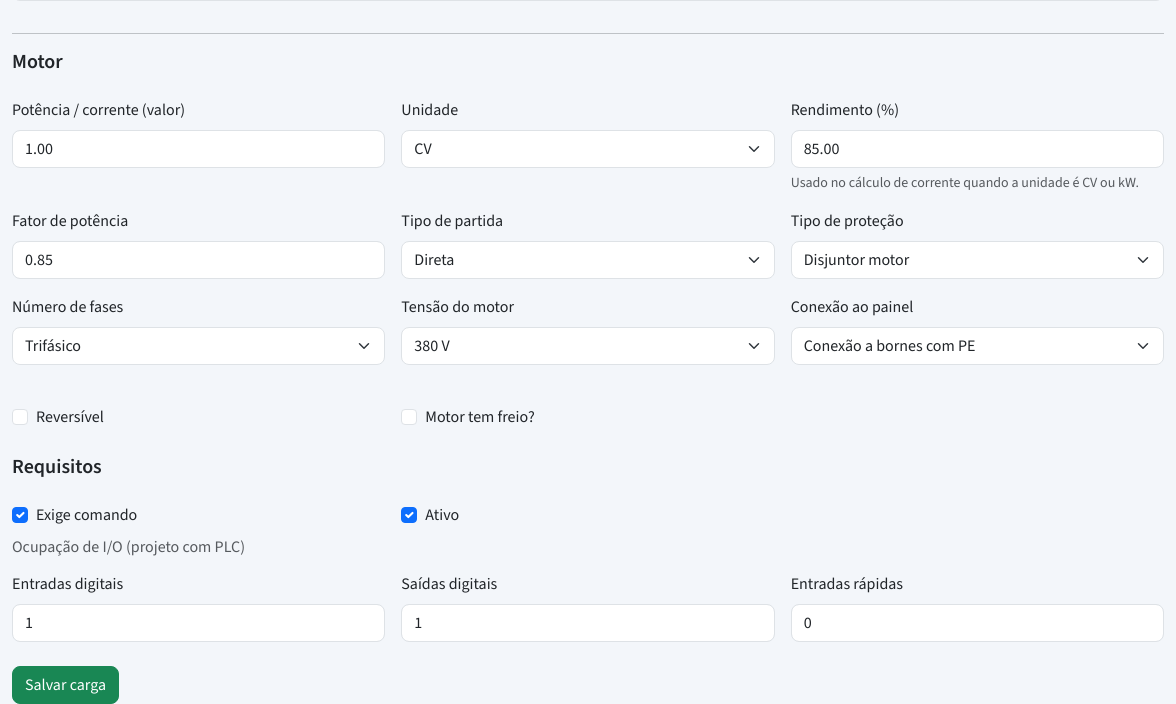
Test: CargaForm › zera e desabilita quantidades de IO quando exige comando fica false
(page scrolled)
What coordinates should you click on to do the following:
click the checkbox labelled "Exige comando"
I would click on:
 (20, 515)
Its box is [12,507,28,523].
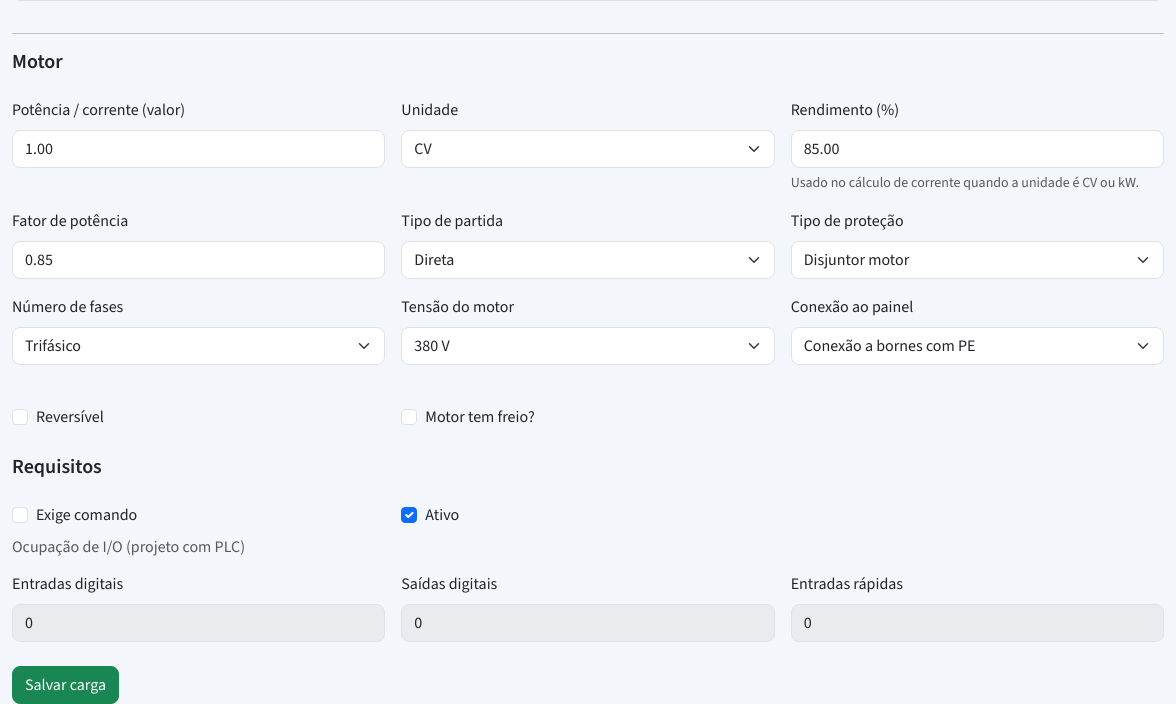
Check: the number field labelled "Entradas digitais" holds "0", box [12,604,385,642]
Check: the number field labelled "Saídas digitais" holds "0", box [401,604,775,642]
Check: the number field labelled "Entradas digitais" is disabled, box [12,604,385,642]
